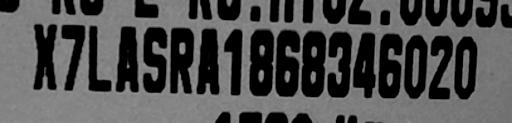letter: (190, 26, 226, 93), (29, 21, 61, 94), (398, 33, 432, 98), (136, 24, 168, 89), (83, 24, 115, 89), (450, 34, 482, 99), (244, 29, 274, 94), (296, 30, 326, 95), (348, 32, 378, 95), (374, 32, 402, 99), (167, 26, 193, 95), (272, 28, 298, 97), (60, 21, 84, 92), (114, 25, 138, 92), (224, 26, 246, 95), (326, 31, 348, 98), (430, 33, 452, 100)
